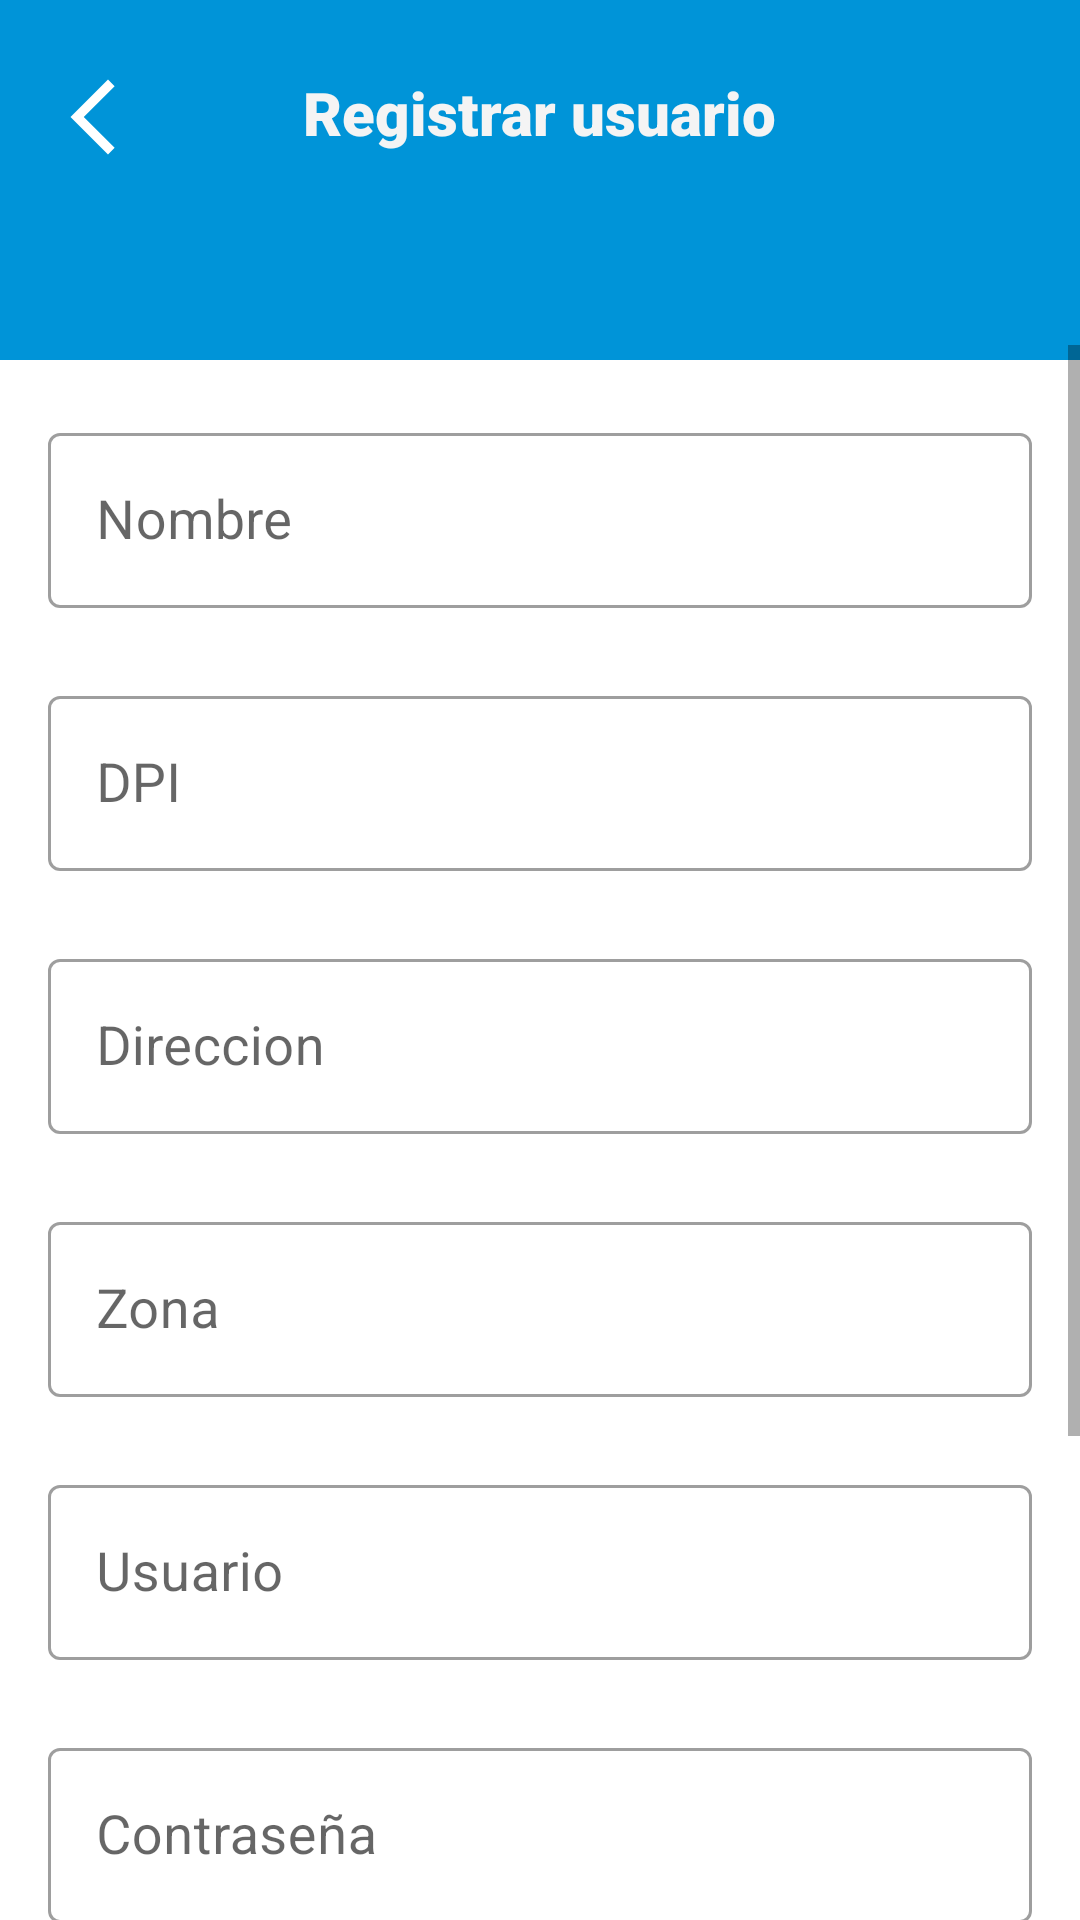

Icon bounding boxes for this 1080px x 1920px phone screenshot, format (x1, y1, x2, y2):
arrow back: (70, 79, 115, 155)
